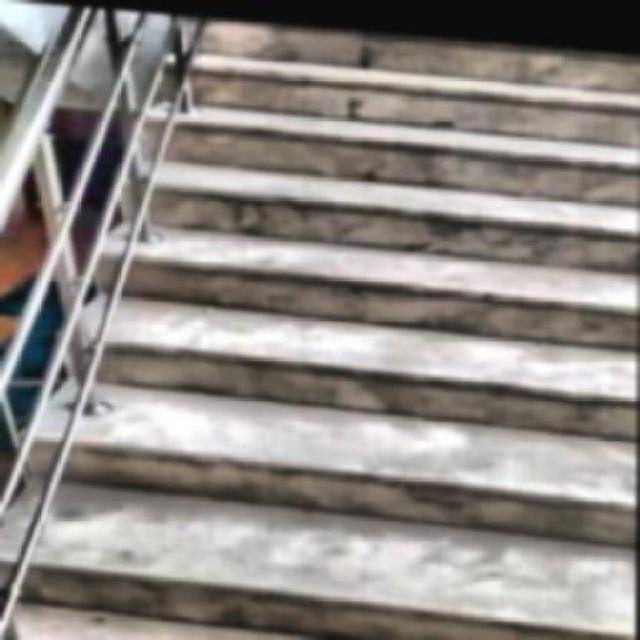stair: (64, 4, 640, 638)
